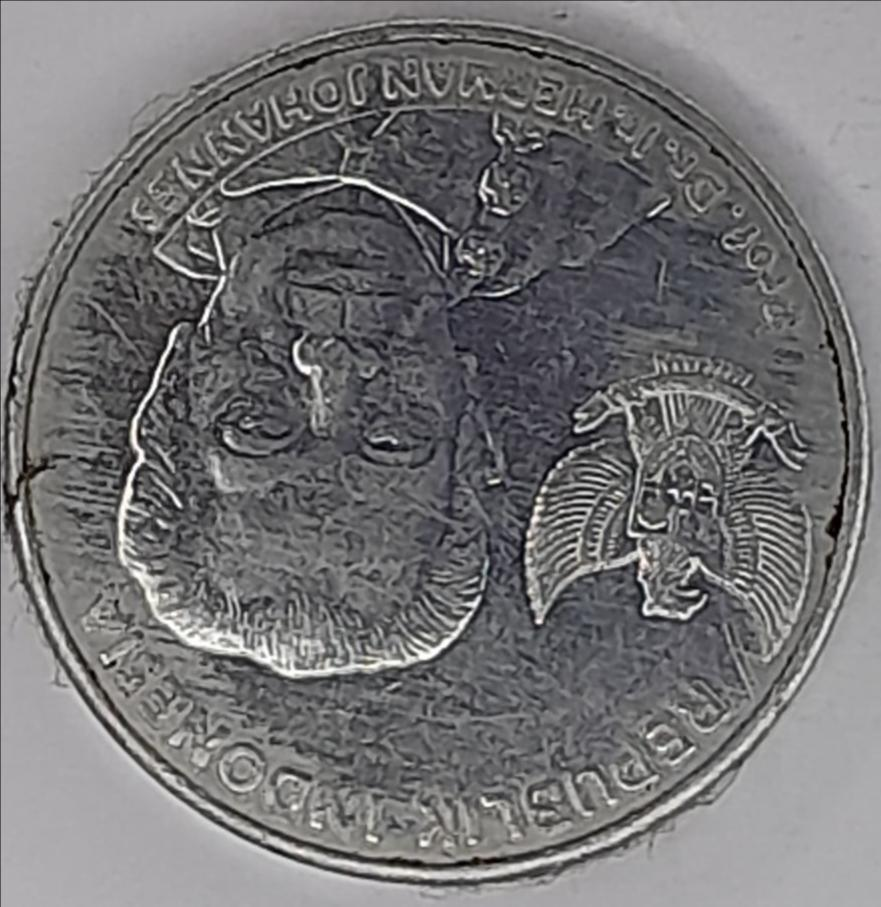coin_100_e2016: (0, 9, 877, 890)
